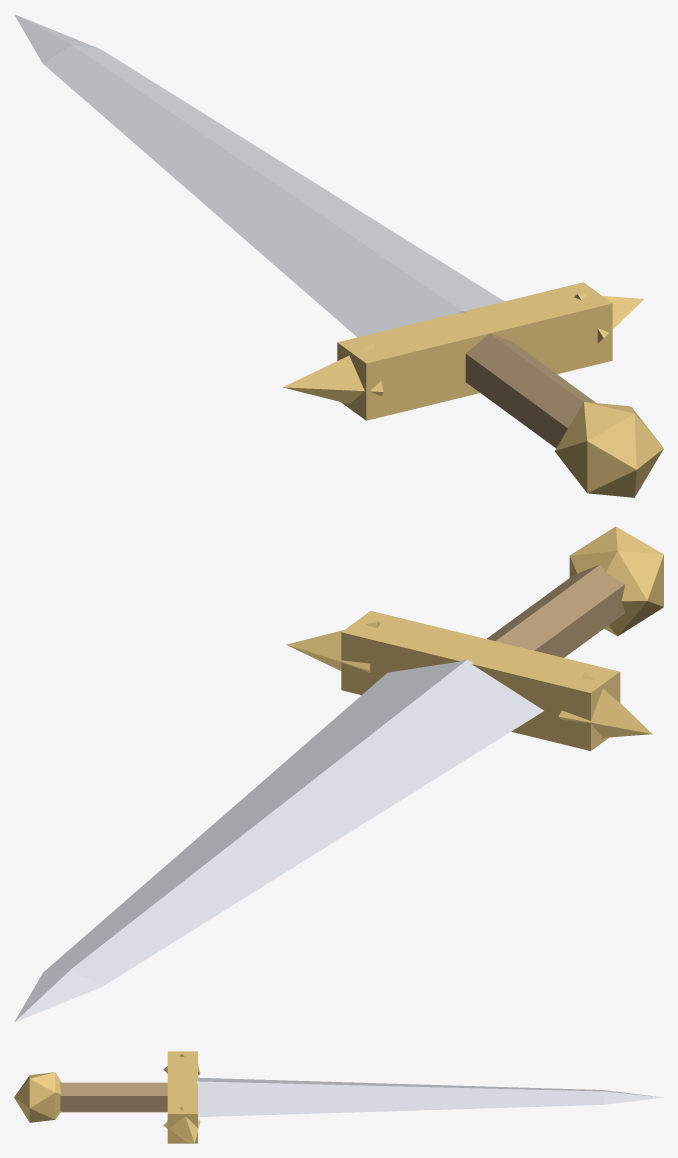
File: Sword.fbx
The picture shows the model from 3 angles, top to bottom: view 1: azimuth 30°, elevation 25°; view 2: azimuth 150°, elevation 25°; view 3: azimuth 270°, elevation 25°; orthographic projection. The views are drawn at different scales.
Parts seen in each view (by area): view 1: fam_steel, fam_gold, fam_leather; view 2: fam_steel, fam_gold, fam_leather; view 3: fam_steel, fam_gold, fam_leather.
Boxes of the visible parts, <box> form: fam_steel: <box>14,14,504,337</box>; fam_gold: <box>283,282,663,497</box>; fam_leather: <box>465,333,595,447</box>; fam_steel: <box>14,659,543,1022</box>; fam_gold: <box>286,526,663,750</box>; fam_leather: <box>487,564,625,657</box>; fam_steel: <box>196,1077,663,1117</box>; fam_gold: <box>14,1051,200,1143</box>; fam_leather: <box>59,1082,167,1112</box>.
Bounding box in the file's own units: 1.39 × 0.3096 × 4.14.
